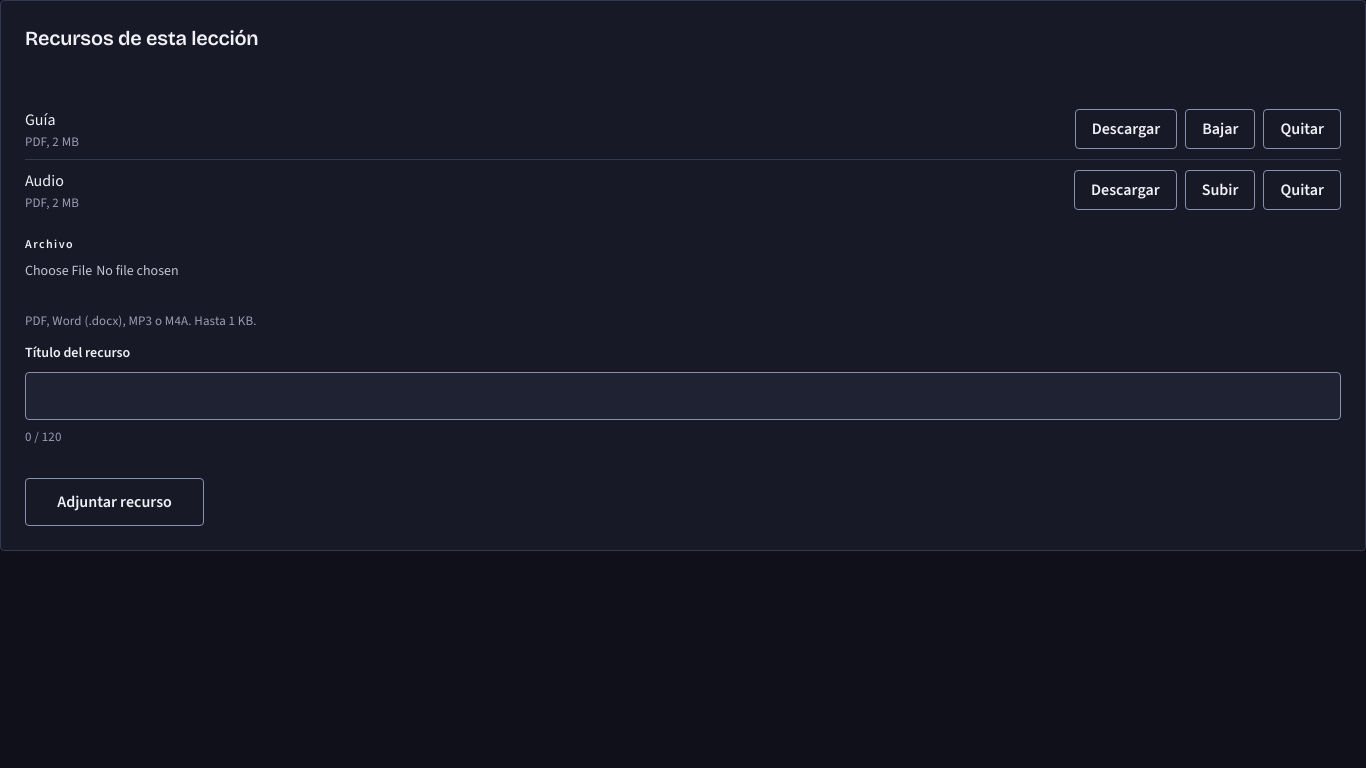
Test: adjuntar › adjuntar sin archivo lo dice, en una región viva
The width and height of the screenshot is (1366, 768).
Click the button "Adjuntar recurso" at x=114, y=502, box x1=25 y1=478 x2=204 y2=526
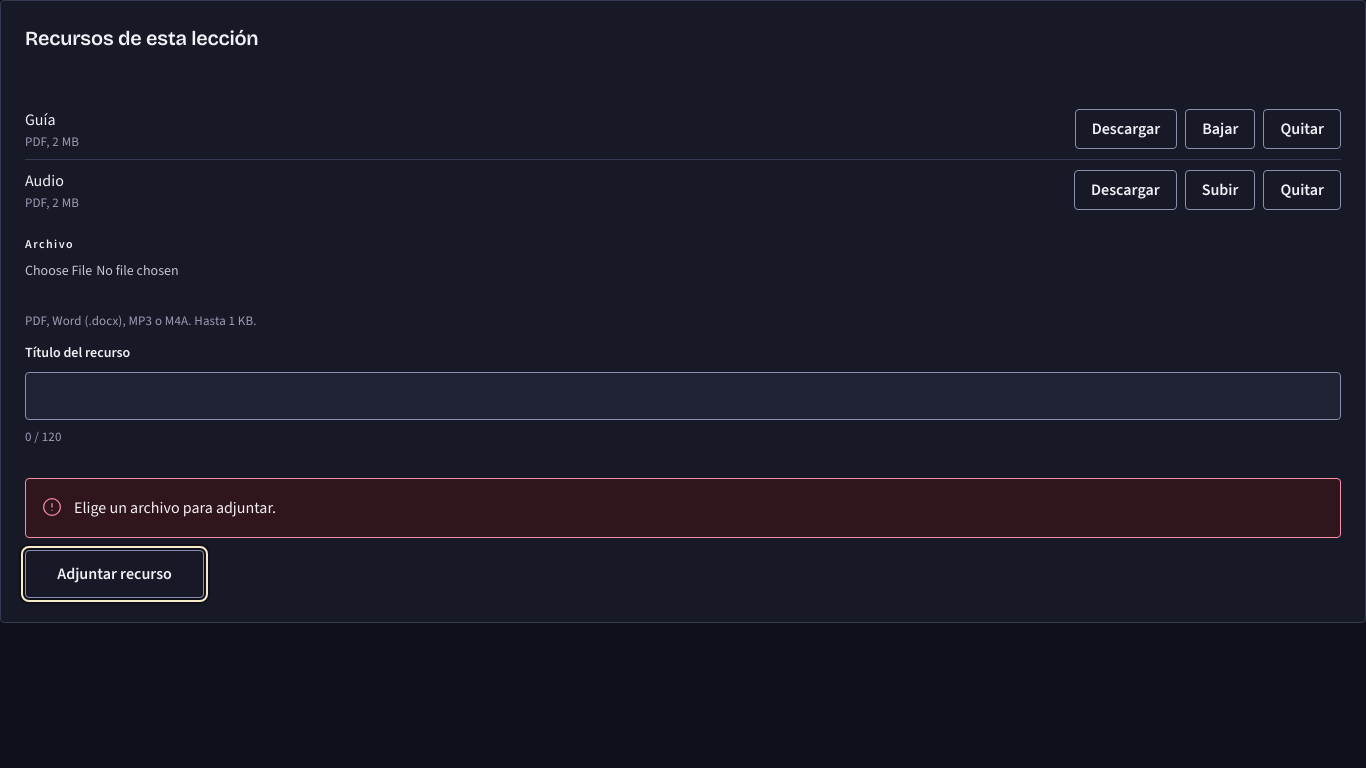
Result: the message reads "Elige un archivo para adjuntar." at x1=74 y1=497 x2=276 y2=518
